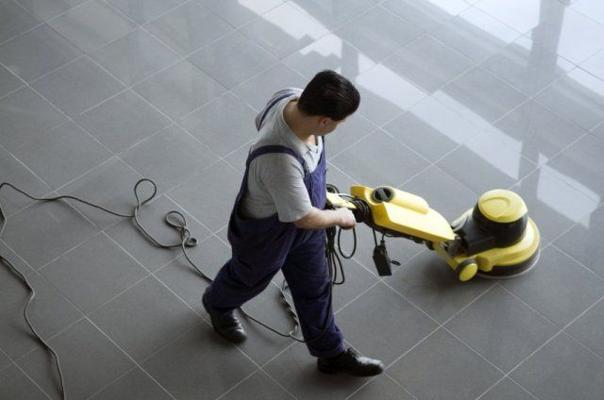person: (202, 70, 385, 381)
